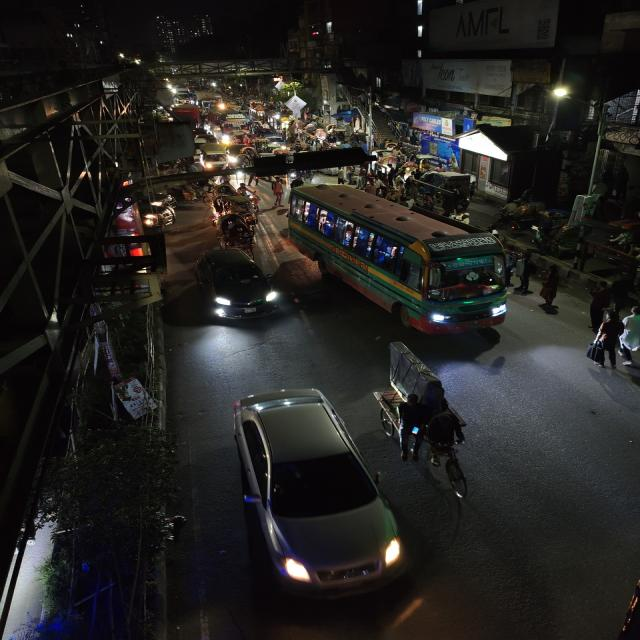bus: (281, 180, 516, 336)
car: (212, 379, 427, 612), (190, 246, 279, 324)
human_hauler: (200, 143, 231, 172)
pedestrian: (589, 310, 630, 372), (584, 281, 615, 329), (536, 264, 570, 306), (620, 304, 640, 372), (512, 251, 540, 293), (270, 177, 288, 205)
rickshaw: (374, 386, 474, 500), (275, 255, 326, 309), (213, 214, 259, 252)
